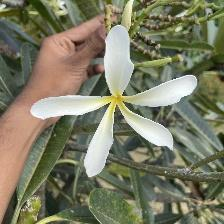champaka: (31, 24, 199, 180)
